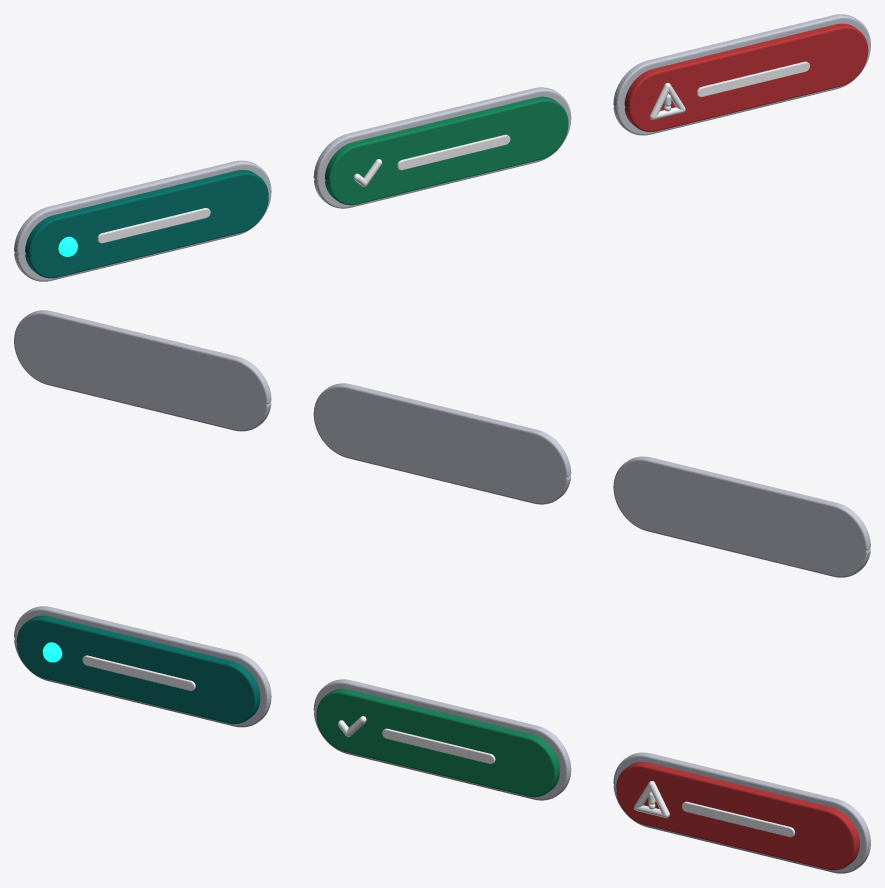
Rendered from rs_status_badges.glb.
The picture shows the model from 3 angles, top to bottom: view 1: azimuth 30°, elevation 25°; view 2: azimuth 150°, elevation 25°; view 3: azimuth 330°, elevation 25°; orthographic projection.
Parts seen in each view (by area): view 1: BadgeBody_Ready, BadgeBody_Processing, BadgeBody_Failed, BadgeTray_Processing, BadgeTray_Failed, BadgeTray_Ready, BadgeText_Processing, BadgeText_Ready, BadgeText_Failed, BadgeIcon_Failed; view 2: BadgeTray_Processing, BadgeTray_Failed, BadgeTray_Ready; view 3: BadgeBody_Ready, BadgeBody_Processing, BadgeBody_Failed, BadgeTray_Failed, BadgeTray_Processing, BadgeTray_Ready, BadgeText_Processing, BadgeText_Ready, BadgeText_Failed, BadgeIcon_Failed.
Boxes of the visible parts, bbox=[...] form: BadgeBody_Ready: bbox=[324, 96, 568, 205]; BadgeBody_Processing: bbox=[25, 170, 268, 278]; BadgeBody_Failed: bbox=[624, 23, 868, 131]; BadgeTray_Processing: bbox=[14, 160, 271, 281]; BadgeTray_Failed: bbox=[613, 14, 870, 135]; BadgeTray_Ready: bbox=[313, 87, 571, 208]; BadgeText_Processing: bbox=[97, 208, 210, 243]; BadgeText_Ready: bbox=[397, 134, 510, 170]; BadgeText_Failed: bbox=[696, 61, 809, 97]; BadgeIcon_Failed: bbox=[649, 82, 685, 119]; BadgeTray_Processing: bbox=[613, 456, 870, 577]; BadgeTray_Failed: bbox=[14, 310, 271, 431]; BadgeTray_Ready: bbox=[313, 383, 571, 504]; BadgeBody_Ready: bbox=[316, 688, 560, 797]; BadgeBody_Processing: bbox=[16, 615, 260, 723]; BadgeBody_Failed: bbox=[616, 762, 859, 870]; BadgeTray_Failed: bbox=[613, 752, 870, 873]; BadgeTray_Processing: bbox=[14, 606, 271, 727]; BadgeTray_Ready: bbox=[313, 679, 571, 800]; BadgeText_Processing: bbox=[82, 655, 195, 690]; BadgeText_Ready: bbox=[382, 728, 495, 763]; BadgeText_Failed: bbox=[682, 801, 795, 837]; BadgeIcon_Failed: bbox=[634, 781, 669, 818].
Bounding box in the file's own units: 5.7 × 0.46 × 0.17.
